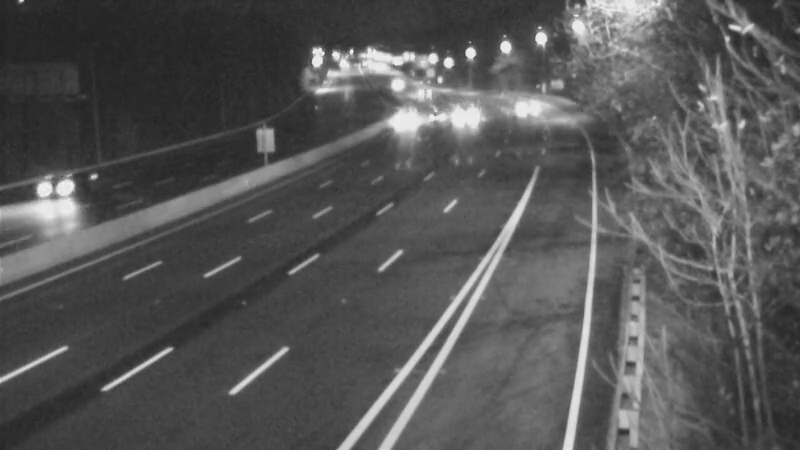vehicle: (17, 149, 97, 229), (369, 58, 419, 108), (398, 62, 448, 112), (491, 84, 541, 134), (432, 91, 482, 141), (414, 92, 464, 142), (378, 95, 428, 145)
